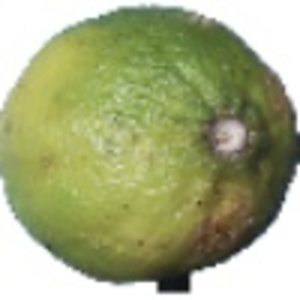limão: (1, 4, 300, 293)
